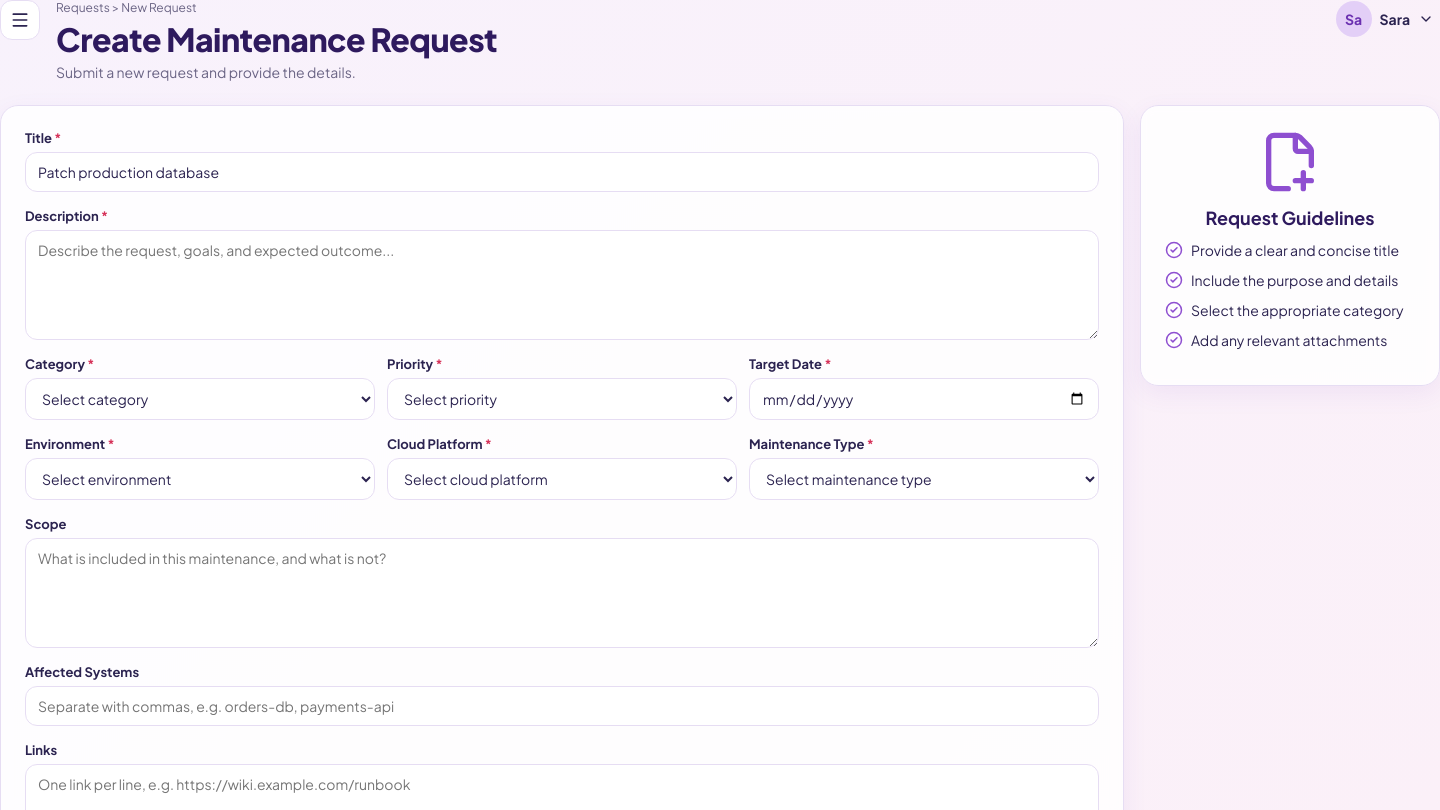
after creating, the new request itself opens (not the list that may be a moment behind), with a message
This screenshot has width=1440, height=810.
Earlier steps of the test are not shown.
Type "Monthly patch" into the text box labelled "Description *" at (562, 285), box 25,230 -> 1099,340
Select "IT" in the dropdown labelled "Category *" at (200, 399), box 25,378 -> 375,420
Select "Medium" in the dropdown labelled "Priority *" at (562, 399), box 387,378 -> 737,420
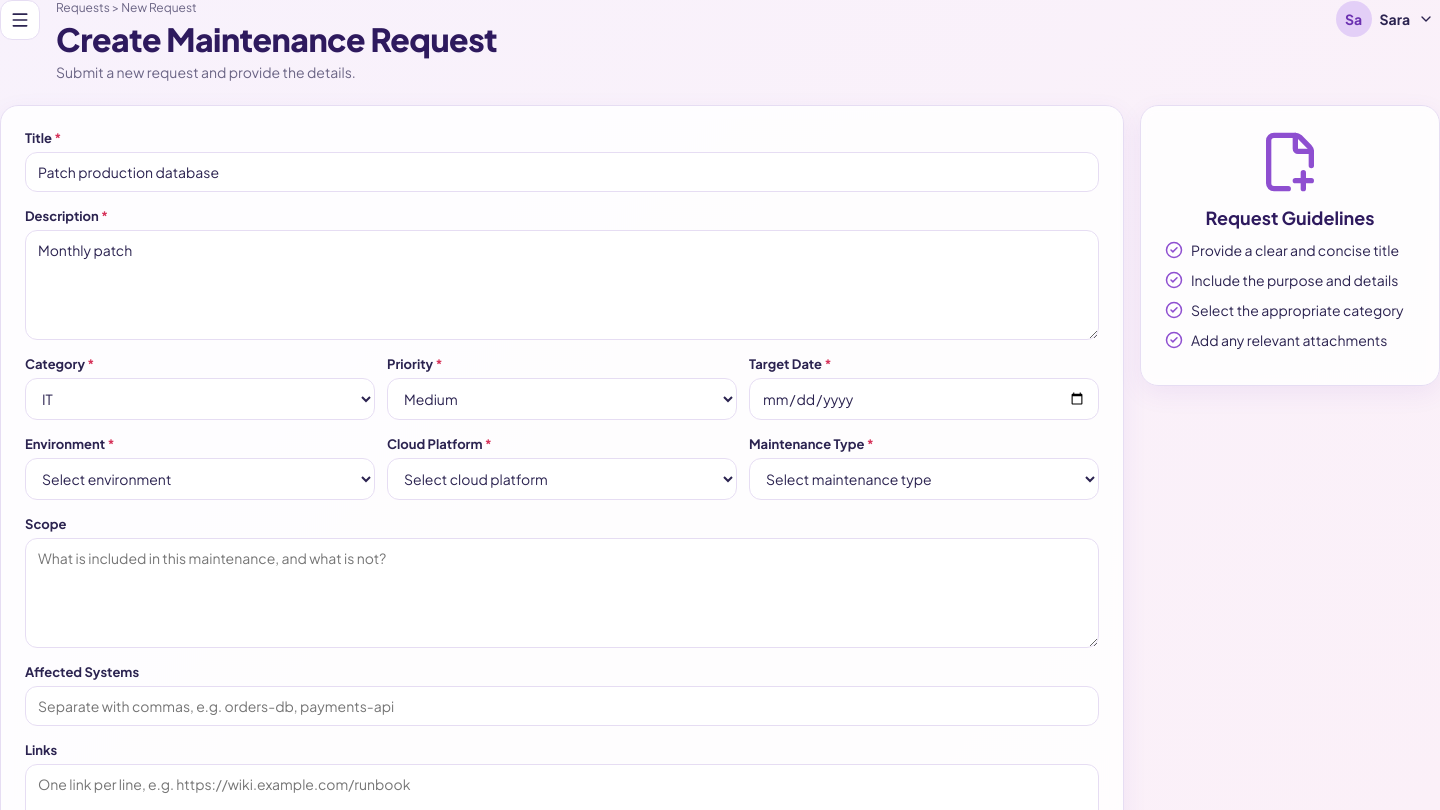
Type "2026-12-20" into the date field labelled "Target Date" at (924, 399), box 749,378 -> 1099,420
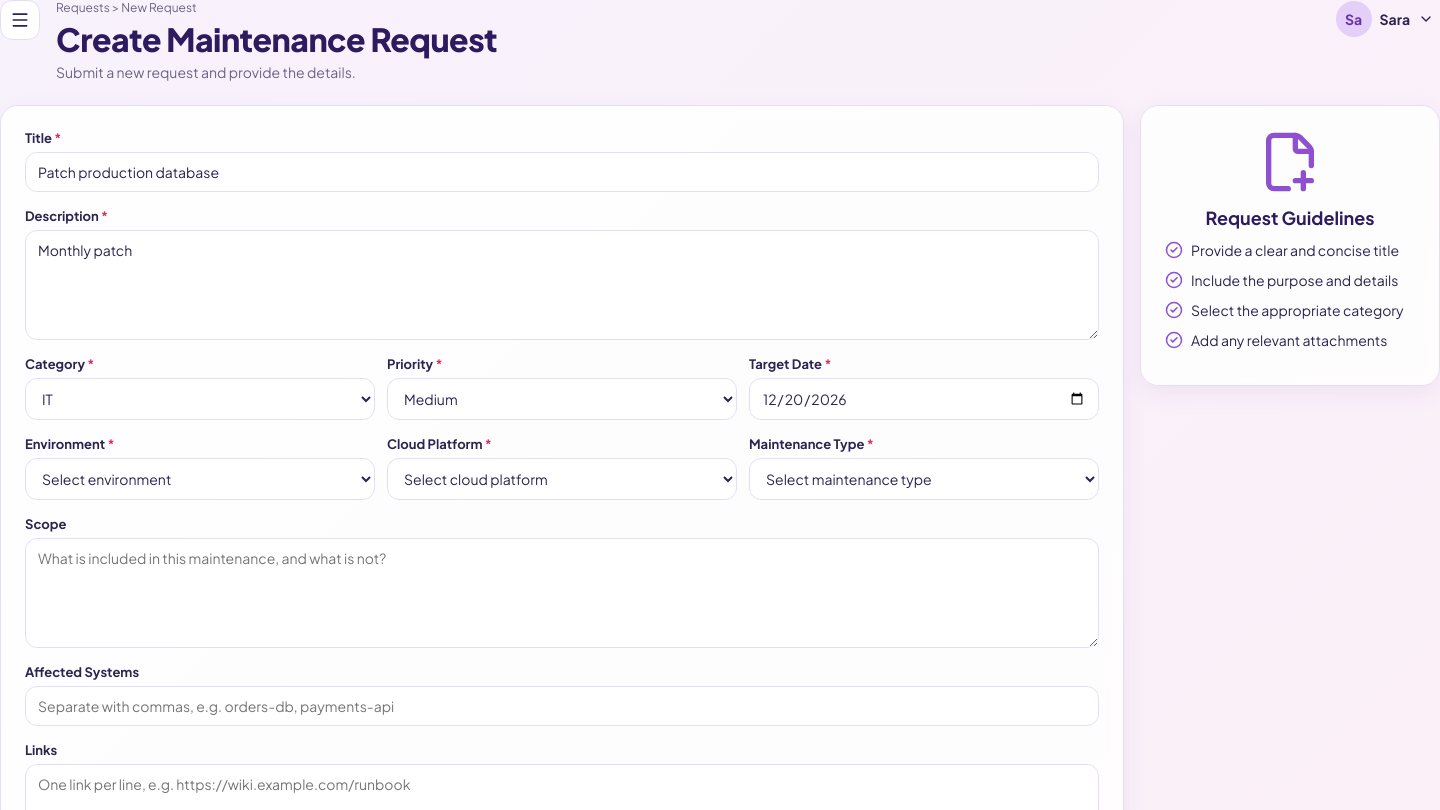
Select "Staging" in the dropdown labelled "Environment *" at (200, 479), box 25,458 -> 375,500
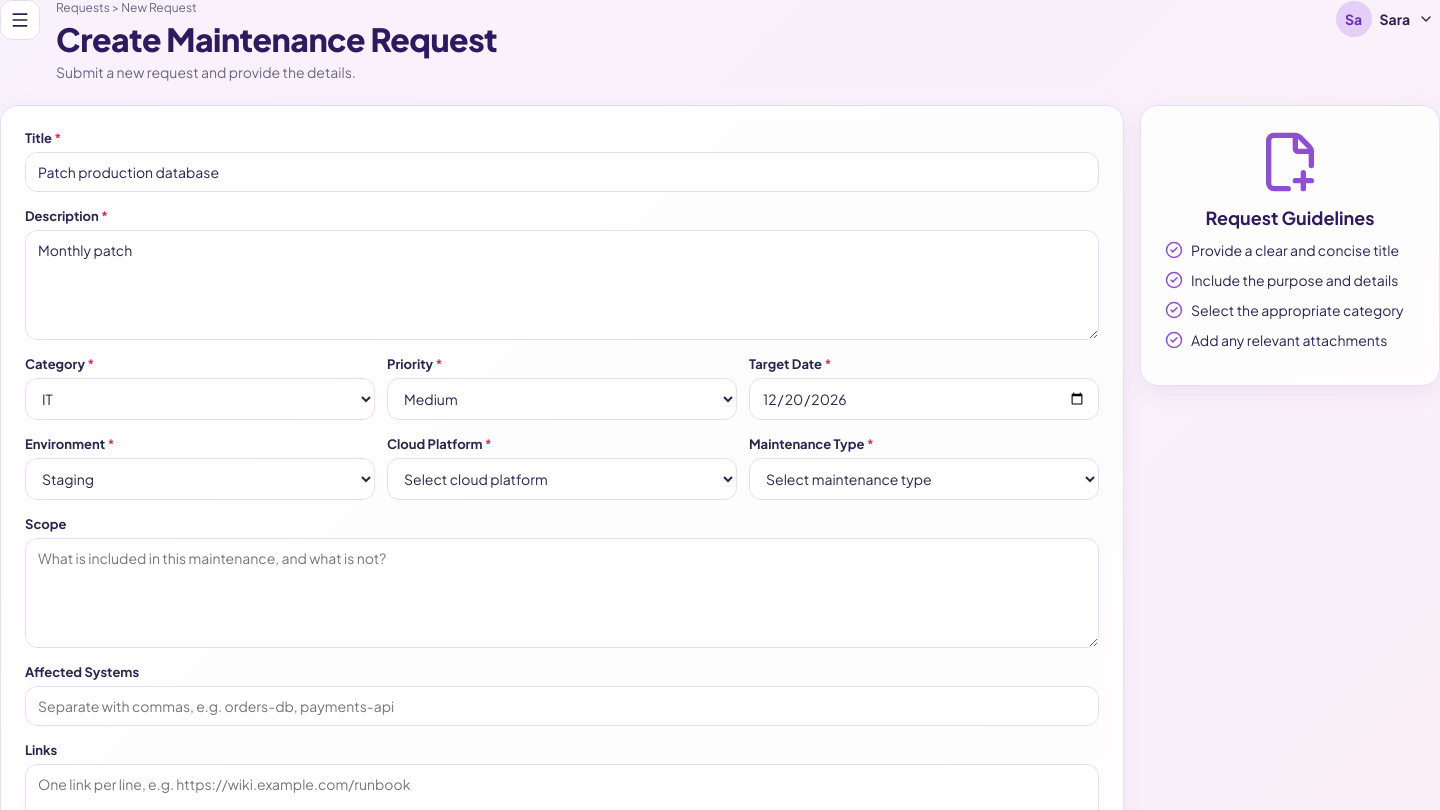
Select "AWS" in the dropdown labelled "Cloud Platform *" at (562, 479), box 387,458 -> 737,500
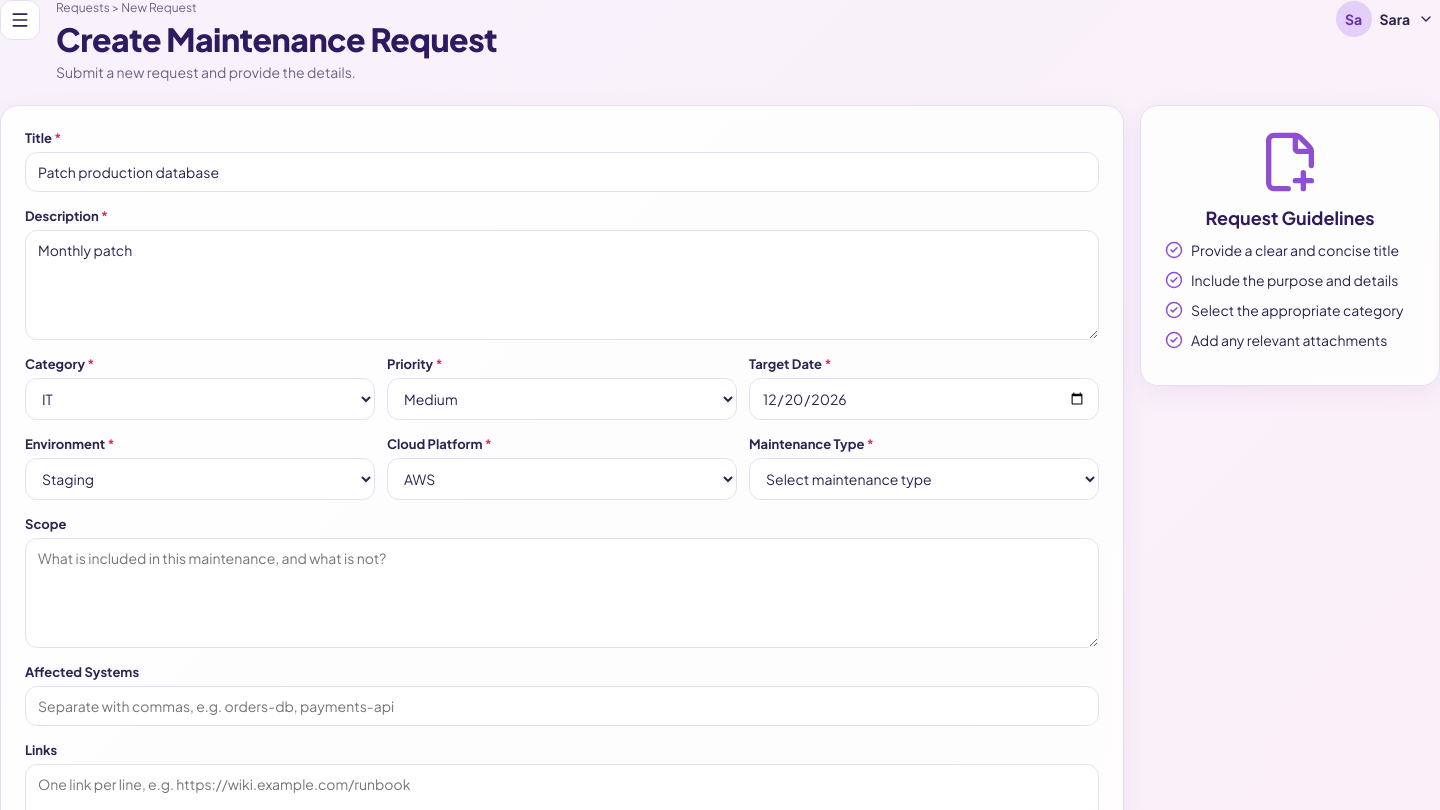
Select "Patching" in the dropdown labelled "Maintenance Type *" at (924, 479), box 749,458 -> 1099,500
(page scrolled)
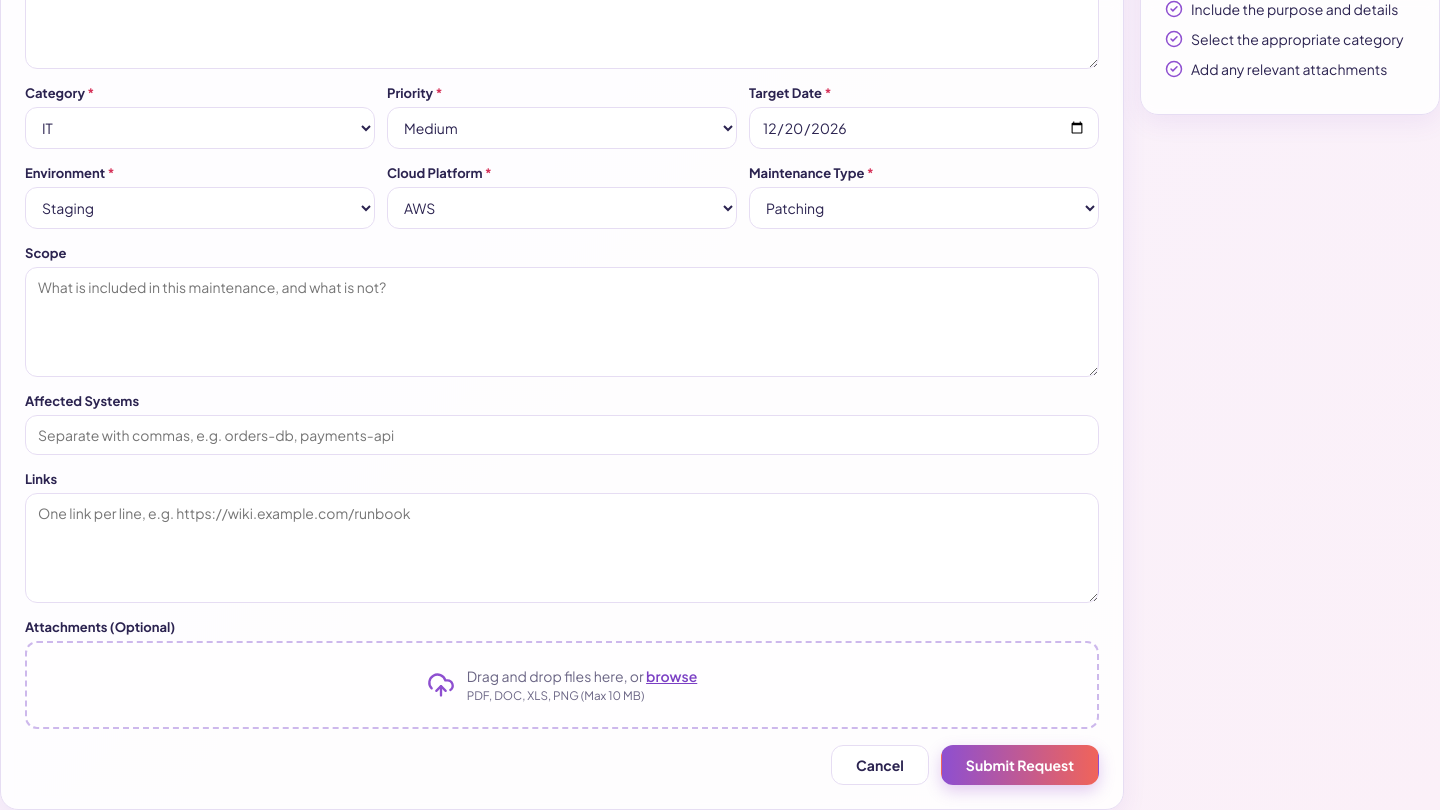
Click the button "Submit Request" at (1020, 765), box 941,745 -> 1099,785
(page scrolled)
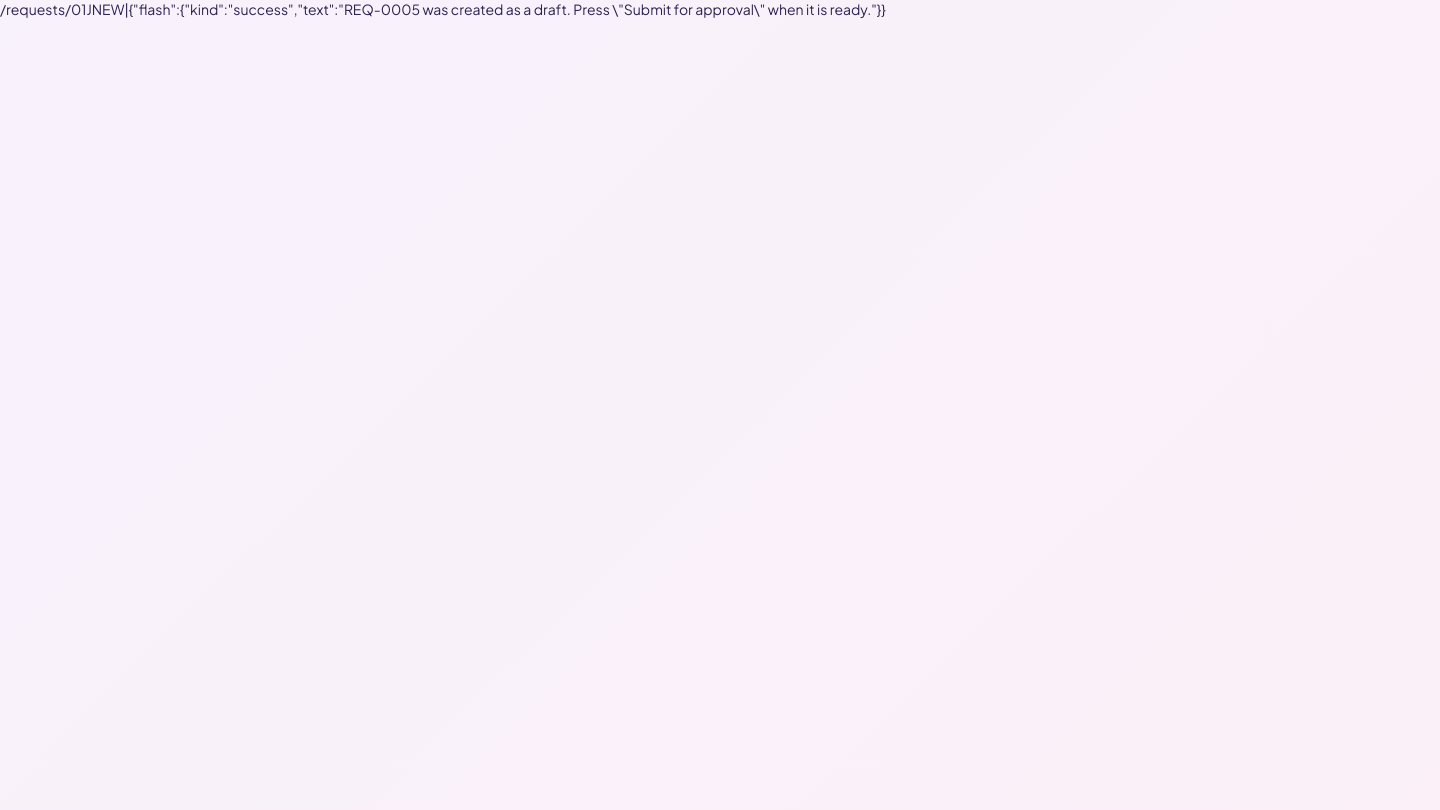
Expected: the text with test id "where" shows "/requests/01JNEW|", 0,0 -> 886,18
Expected: the text with test id "where" shows "REQ-0005 was created as a draft", 129,0 -> 886,18
Expected: the text with test id "where" shows "\"kind\":\"success\"", 129,0 -> 886,18
